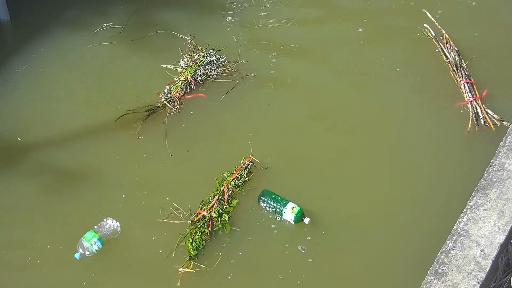plastic: (59, 216, 122, 262), (258, 191, 319, 232)
twig: (91, 0, 306, 143), (151, 129, 259, 288), (404, 14, 495, 136)
